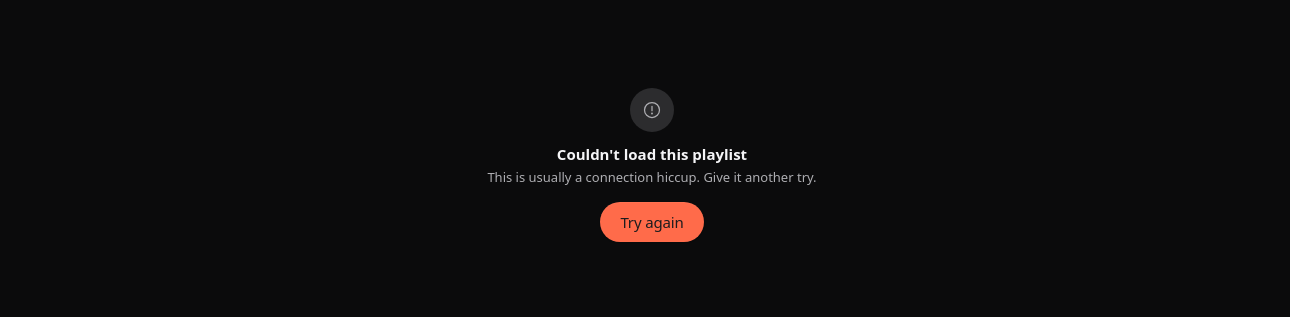
RemotePlaylistView › shows the error state and retries
Expected: the heading "Couldn't load this playlist" is shown, x1=557 y1=144 x2=747 y2=164
Click the button "Try again": (652, 222) x1=600 y1=202 x2=704 y2=242
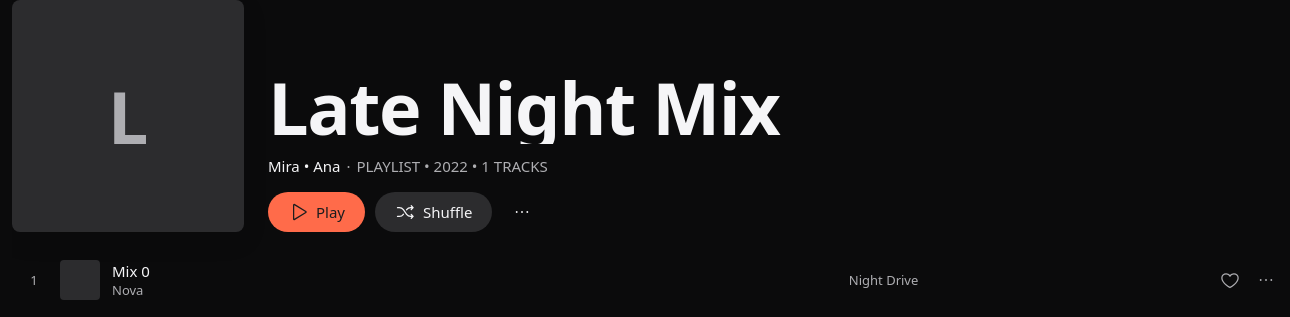
Expected: the heading "Late Night Mix" is shown, x1=268 y1=58 x2=779 y2=156
